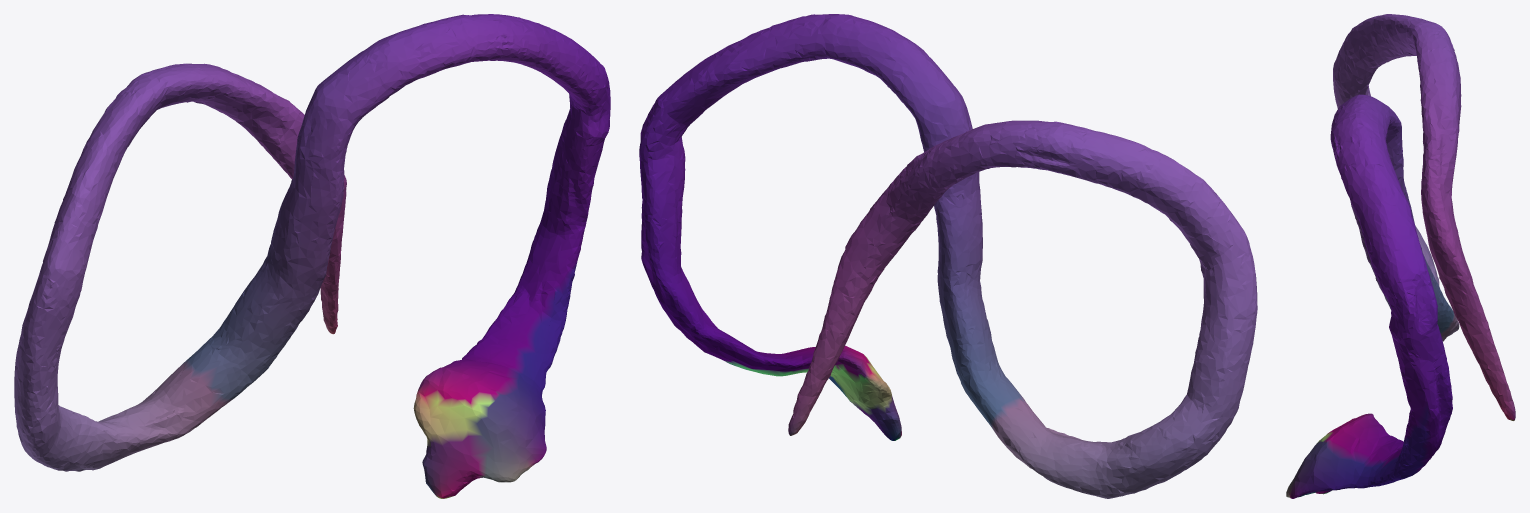
Rendered from snake-14.off.obj.
3 views of the same model, side by side, from view 1: azimuth 30°, elevation 25°; view 2: azimuth 150°, elevation 25°; view 3: azimuth 270°, elevation 25° (orthographic). The views are drawn at different scales.
Size of the model in its own units: 1.73 by 1.22 by 0.6468.
